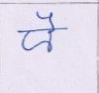ai_matra: (37, 10, 58, 28)
